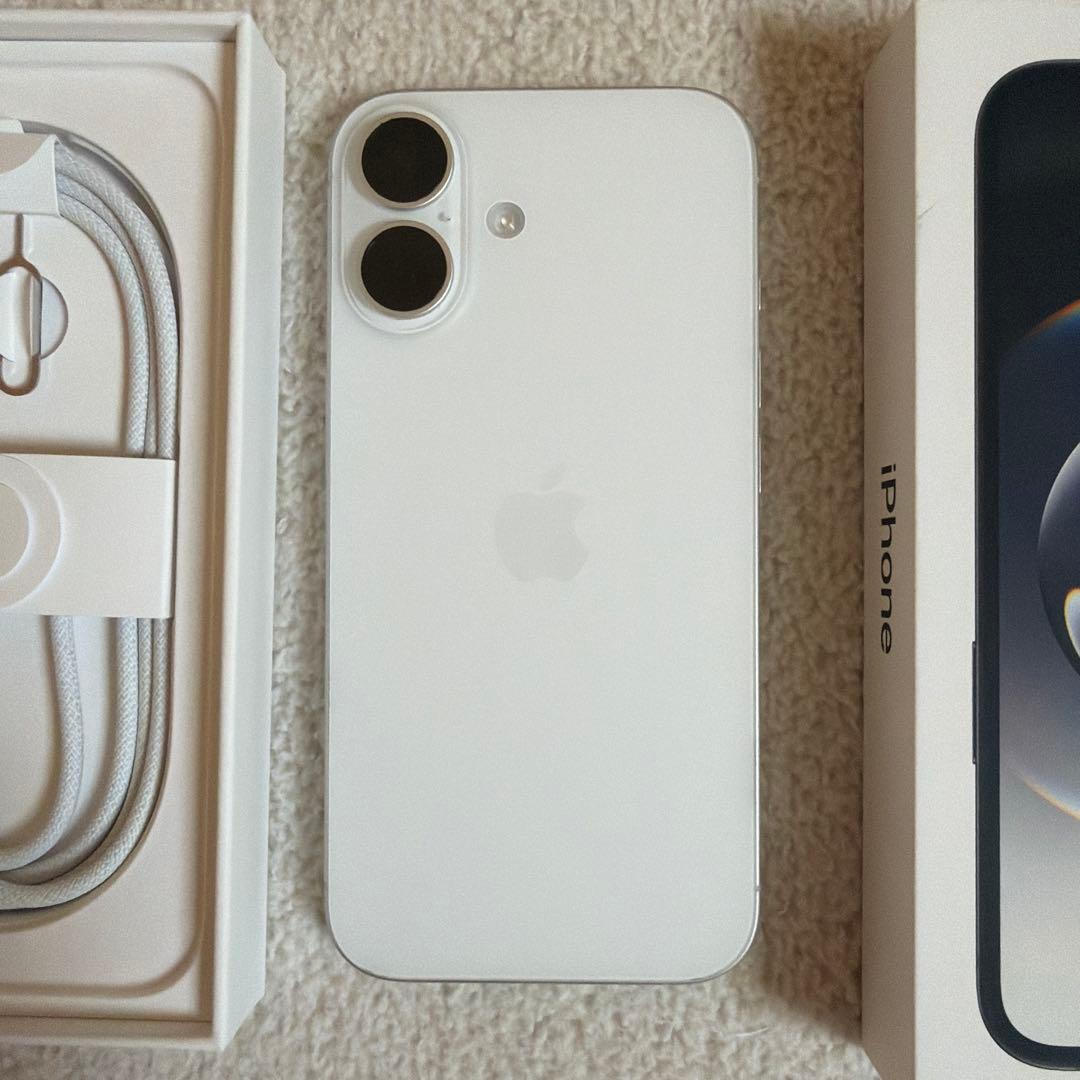iphone16_white: (316, 79, 782, 993), (340, 101, 547, 328)
